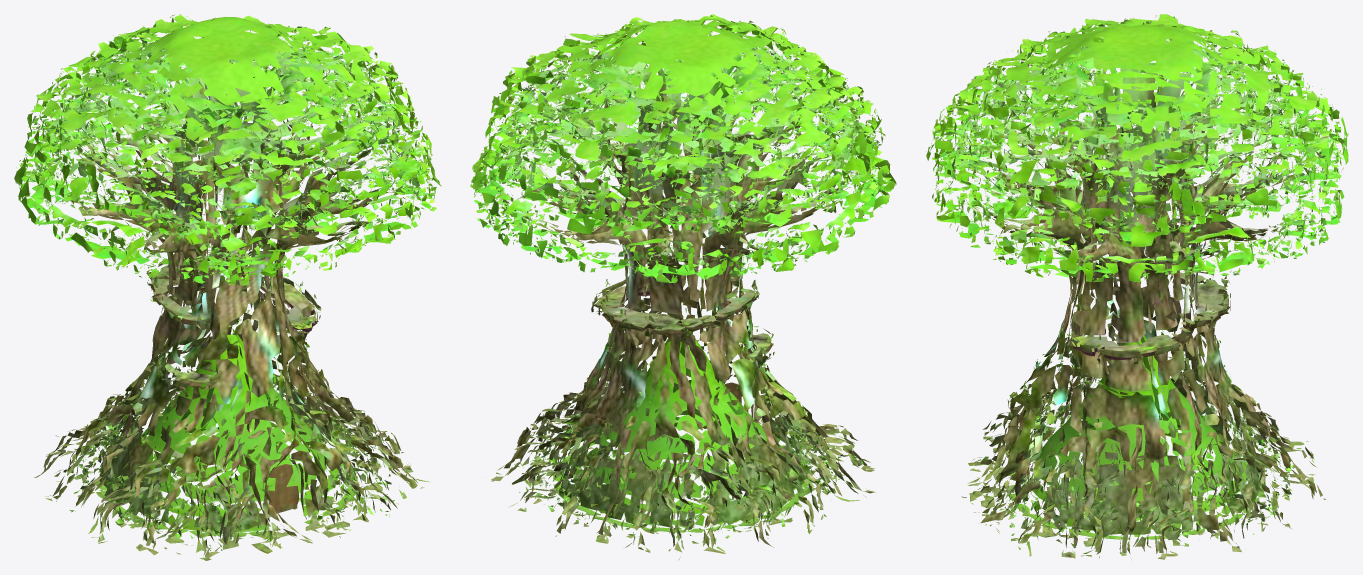
Rendered from arbre.glb.
The picture shows the model from 3 angles, left to right: view 1: azimuth 30°, elevation 25°; view 2: azimuth 150°, elevation 25°; view 3: azimuth 270°, elevation 25°; orthographic projection.
Visible parts, largest first — view 1: mesh; view 2: mesh; view 3: mesh.
Part boxes in pixels (<box>): mesh: <box>14,14,441,560</box>; mesh: <box>470,14,896,560</box>; mesh: <box>925,14,1348,560</box>.
Size of the model in its own units: 1.59 by 1.89 by 1.63.
1 material, 1 textured.
